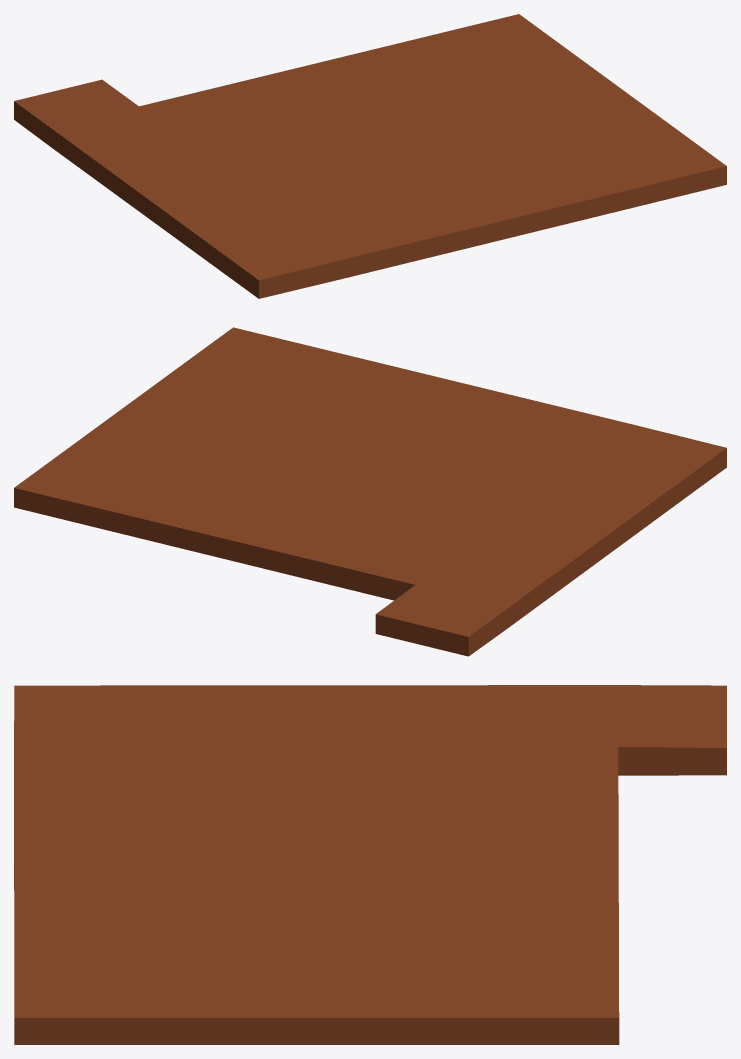
File: puzzle wall (only wall).fbx
The picture shows the model from 3 angles, top to bottom: view 1: azimuth 30°, elevation 25°; view 2: azimuth 150°, elevation 25°; view 3: azimuth 270°, elevation 25°; orthographic projection. The views are drawn at different scales.
Parts seen in each view (by area): view 1: Plane; view 2: Plane; view 3: Plane.
Boxes of the visible parts, box(x1,y1,x2,y2) form: Plane: box(14, 14, 726, 298); Plane: box(14, 327, 726, 656); Plane: box(14, 685, 726, 1044).
Size of the model in its own units: 908 by 36.75 by 823.
